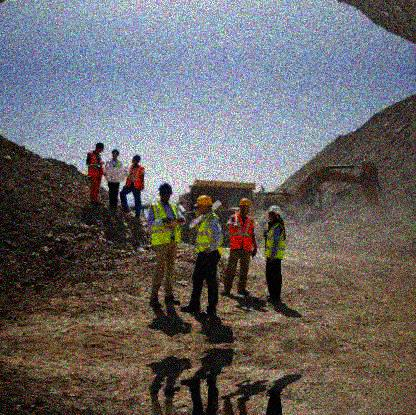helmet: (192, 194, 214, 214), (158, 183, 173, 203), (267, 205, 281, 222), (238, 197, 252, 214), (95, 142, 105, 154), (132, 155, 141, 165), (112, 149, 119, 159)
